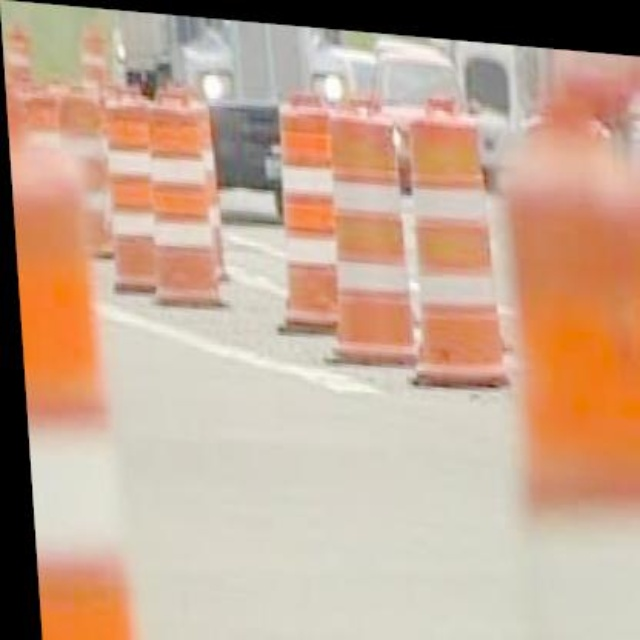obstacle: (312, 97, 418, 363), (406, 97, 504, 373), (135, 85, 223, 300)
